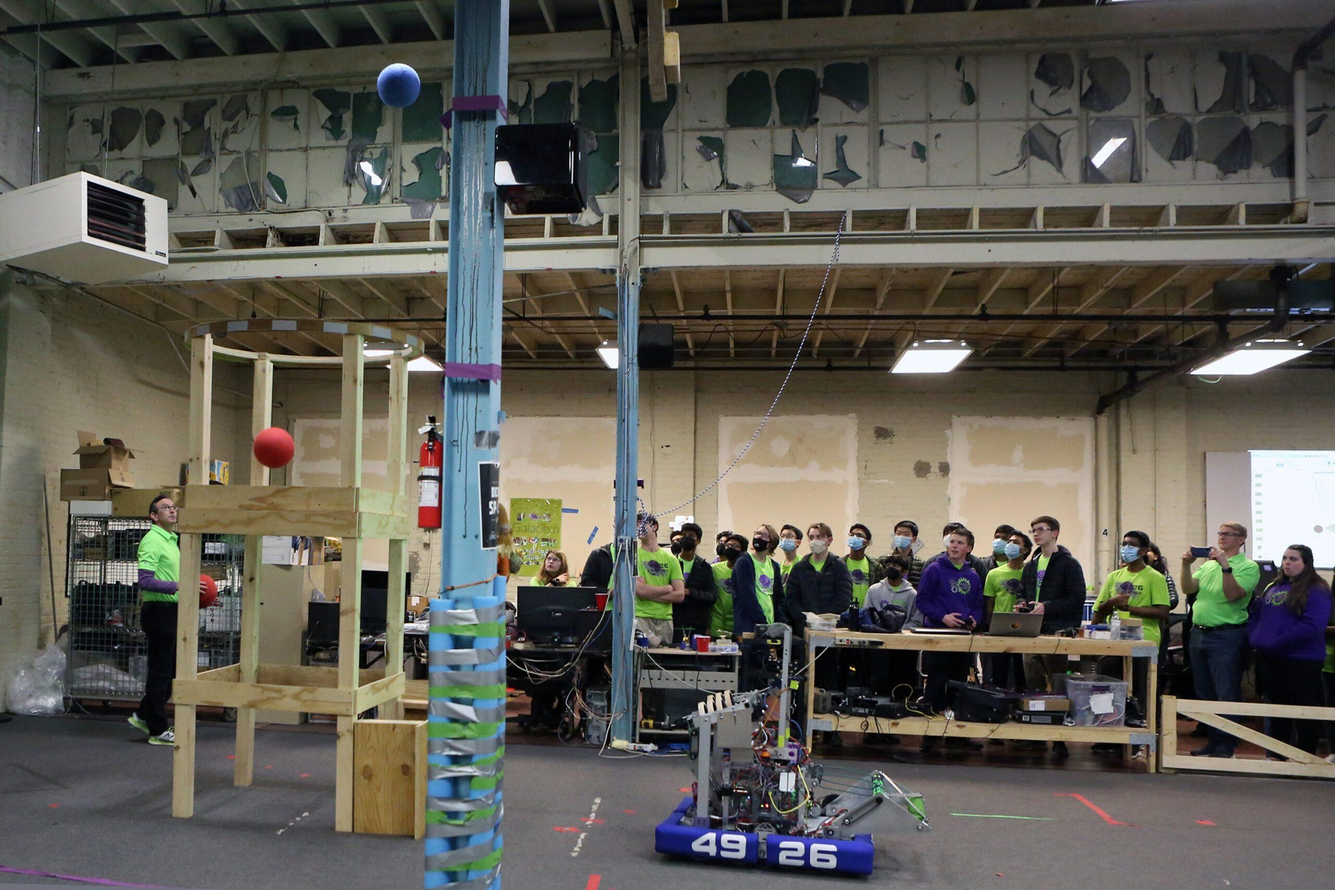robot: (653, 588, 945, 890)
